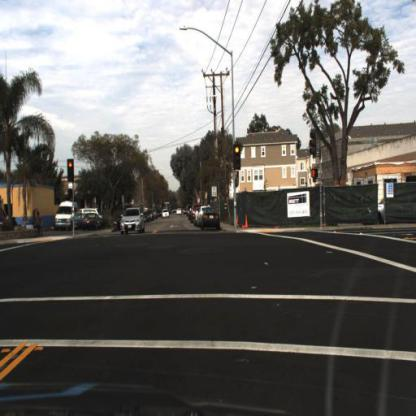car: (120, 204, 144, 235), (56, 200, 78, 233), (198, 206, 223, 231), (202, 208, 221, 231), (83, 212, 104, 230), (81, 204, 102, 217), (160, 206, 171, 220)
pedestrian: (33, 209, 45, 240), (33, 210, 44, 238)
trafficLight: (234, 147, 243, 174)
trafficLight-Red: (67, 157, 76, 184)
